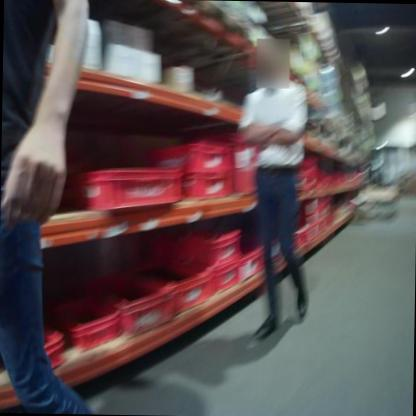small_load_carrier: (85, 268, 180, 330), (64, 161, 182, 208), (125, 258, 213, 319), (52, 298, 126, 351), (150, 223, 244, 261), (143, 140, 236, 170), (176, 171, 235, 206), (231, 242, 265, 285), (43, 326, 68, 374), (213, 262, 238, 297)
